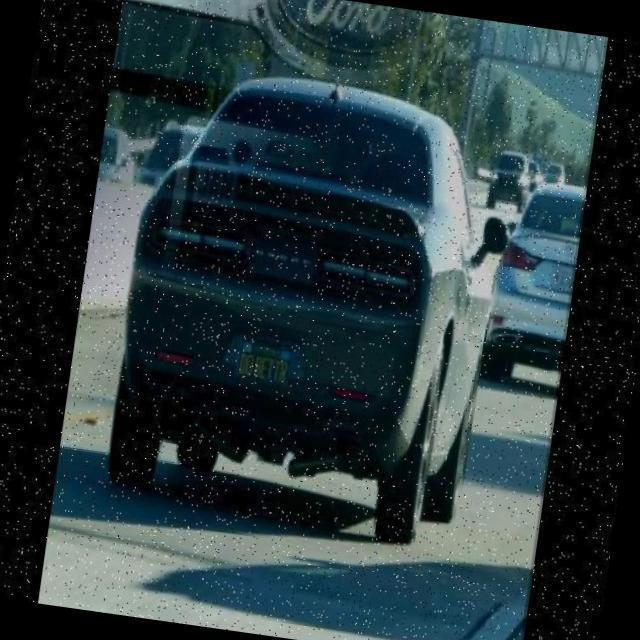license_plate: (234, 329, 292, 391)
